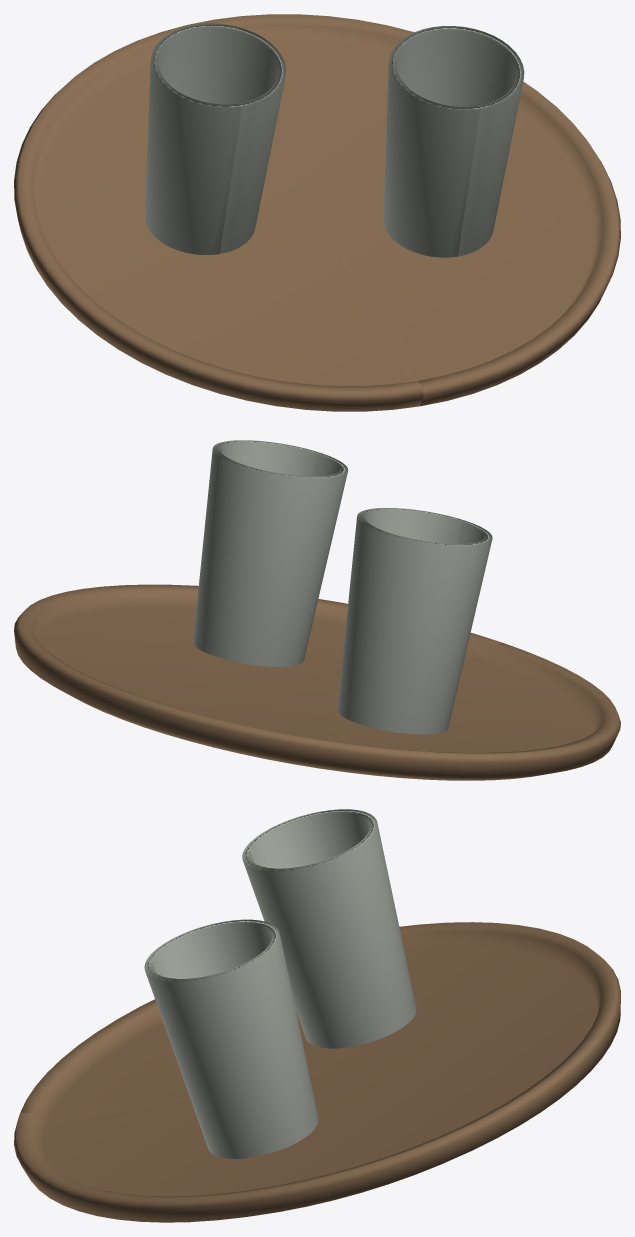
File: pub-tray-empties.glb
3 renders of one model, top to bottom at view 1: azimuth 30°, elevation 25°; view 2: azimuth 150°, elevation 25°; view 3: azimuth 270°, elevation 25°, orthographic. The views are drawn at different scales.
Parts seen in each view (by area): view 1: pub_service_tray_empty; view 2: pub_service_tray_empty; view 3: pub_service_tray_empty.
Part boxes in pixels (x1,y1,x2,y2): pub_service_tray_empty: (14, 14, 620, 411); pub_service_tray_empty: (14, 440, 620, 780); pub_service_tray_empty: (14, 809, 620, 1222).
Size of the model in its own units: 0.3933 by 0.1952 by 0.3811.
